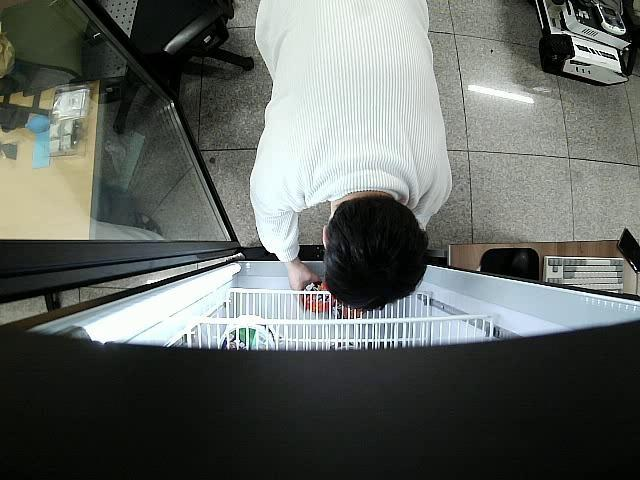02_shinRamen_S: (304, 280, 334, 309)
